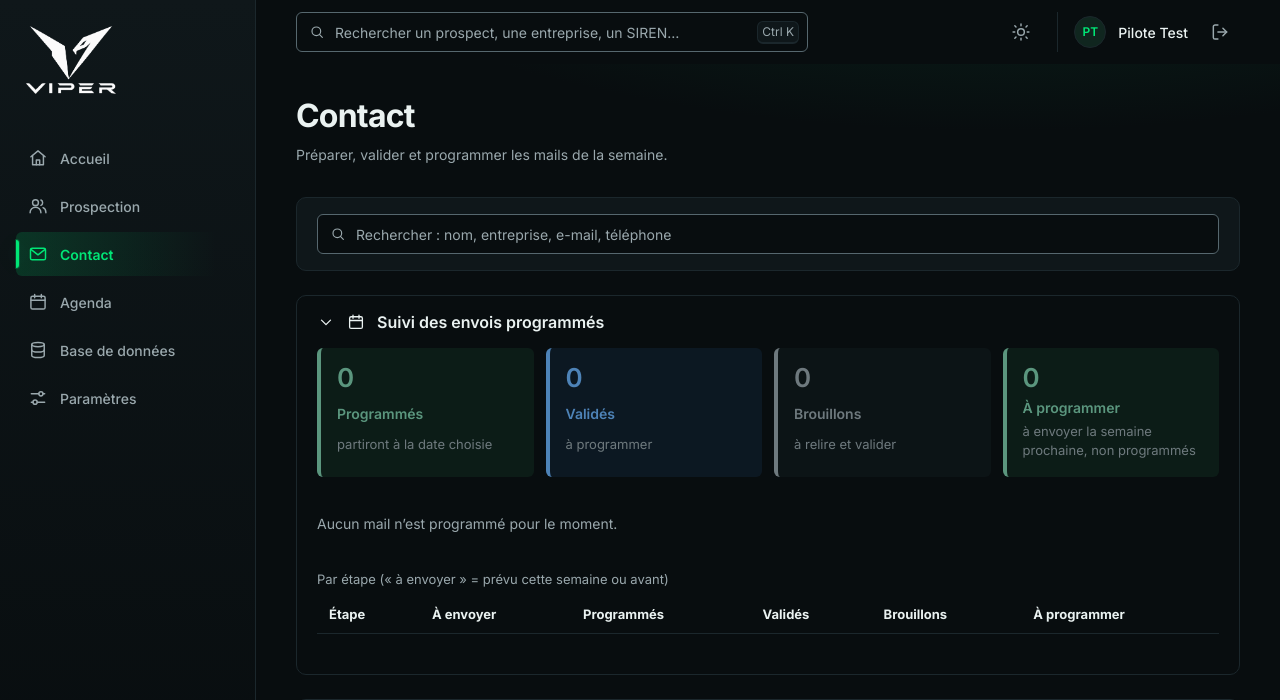
GlobalSearch › never lets a late answer to an earlier query replace the current results
Step 1. Type "fr" into the dropdown named "Recherche globale" → (541, 32), box 333,13 -> 749,51
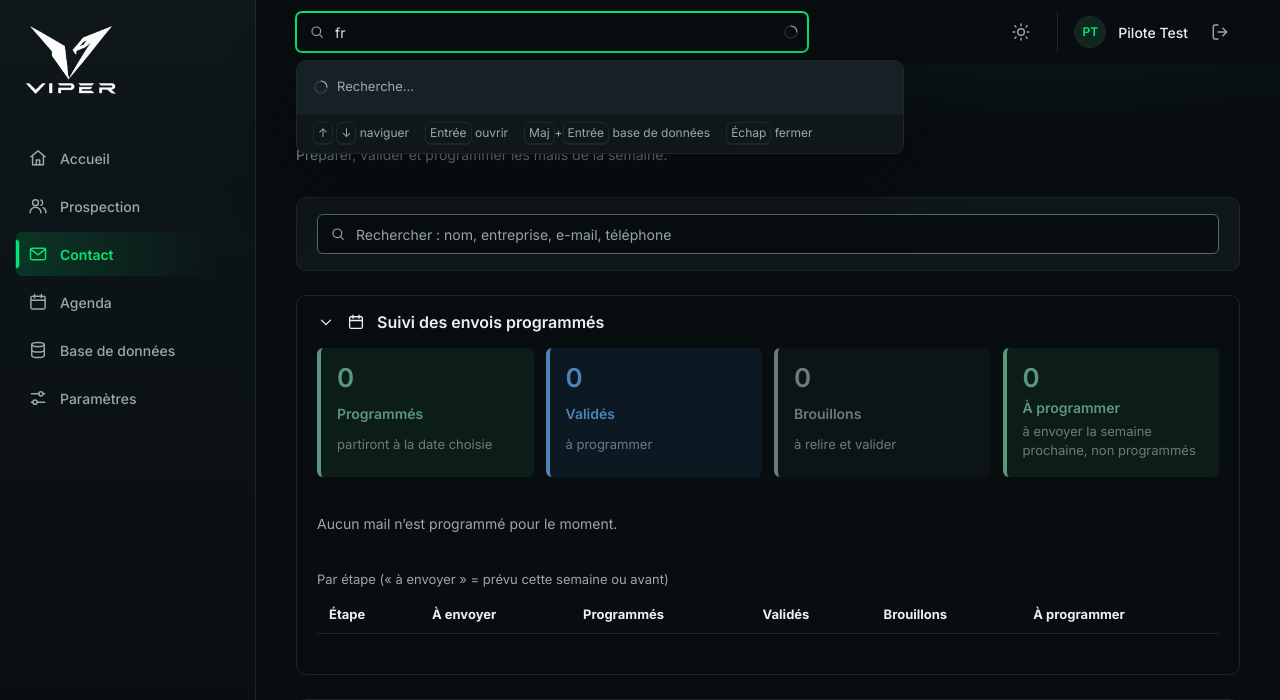
Step 2. Type "et" into the dropdown named "Recherche globale" → (554, 32), box 333,13 -> 775,51
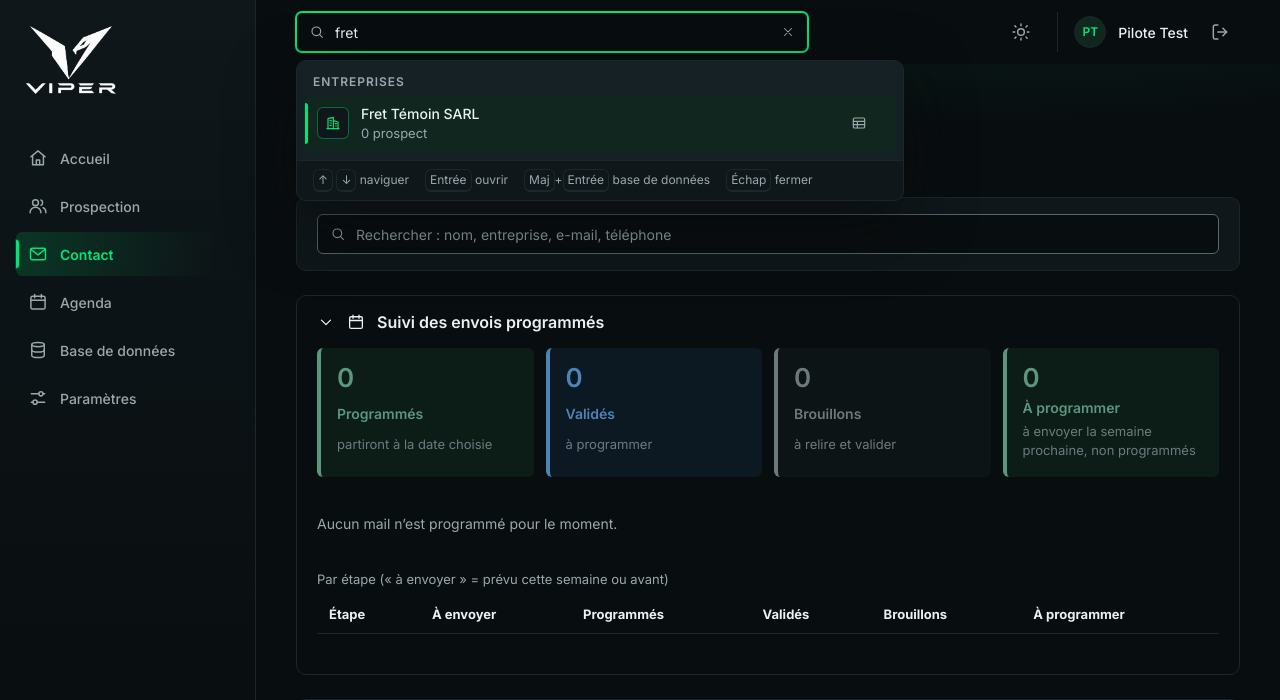
Expected: the option "Fret Témoin SARL 0 prospect" is shown, 305,95 -> 895,152
